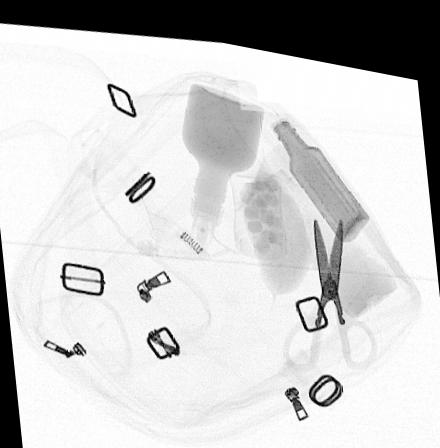Scissors: (279, 201, 378, 362)
